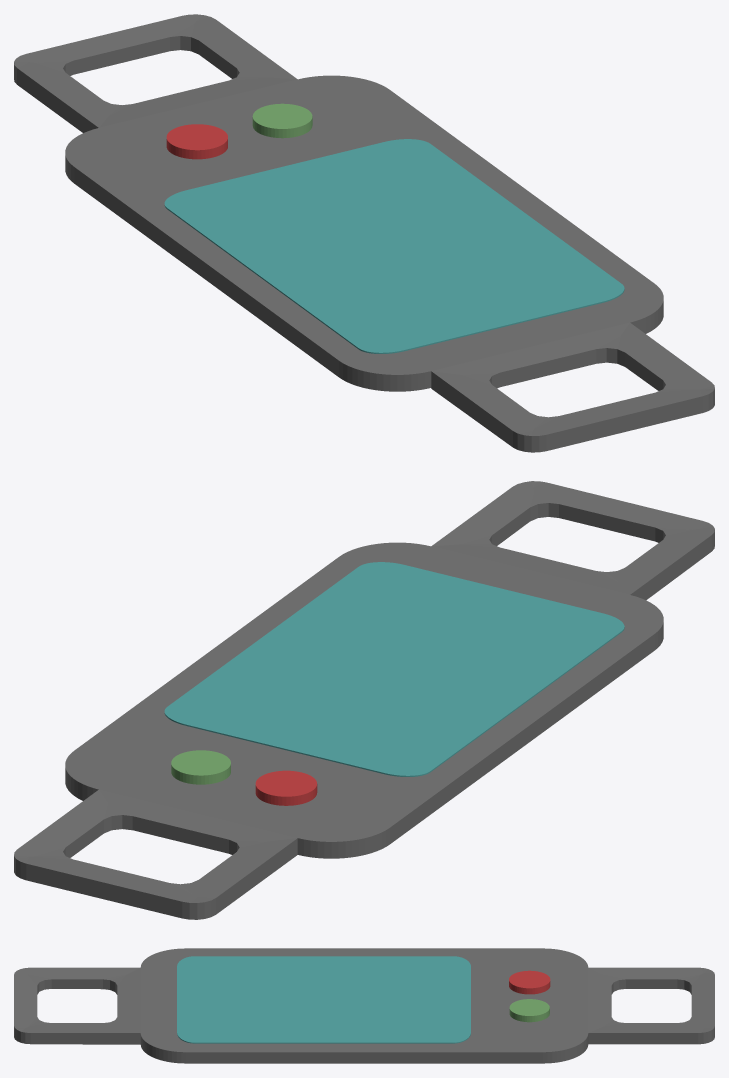
The model's file is PDA.fbx.
3 renders of one model, top to bottom at view 1: azimuth 30°, elevation 25°; view 2: azimuth 150°, elevation 25°; view 3: azimuth 270°, elevation 25°, orthographic. The views are drawn at different scales.
Parts seen in each view (by area): view 1: Cube.001; view 2: Cube.001; view 3: Cube.001.
Part boxes in pixels (left/top/right/bottom): Cube.001: left=14, top=14, right=714, bottom=452; Cube.001: left=14, top=481, right=714, bottom=919; Cube.001: left=14, top=948, right=714, bottom=1063.
Bounding box in the file's own units: 399 × 64.17 × 1138.
